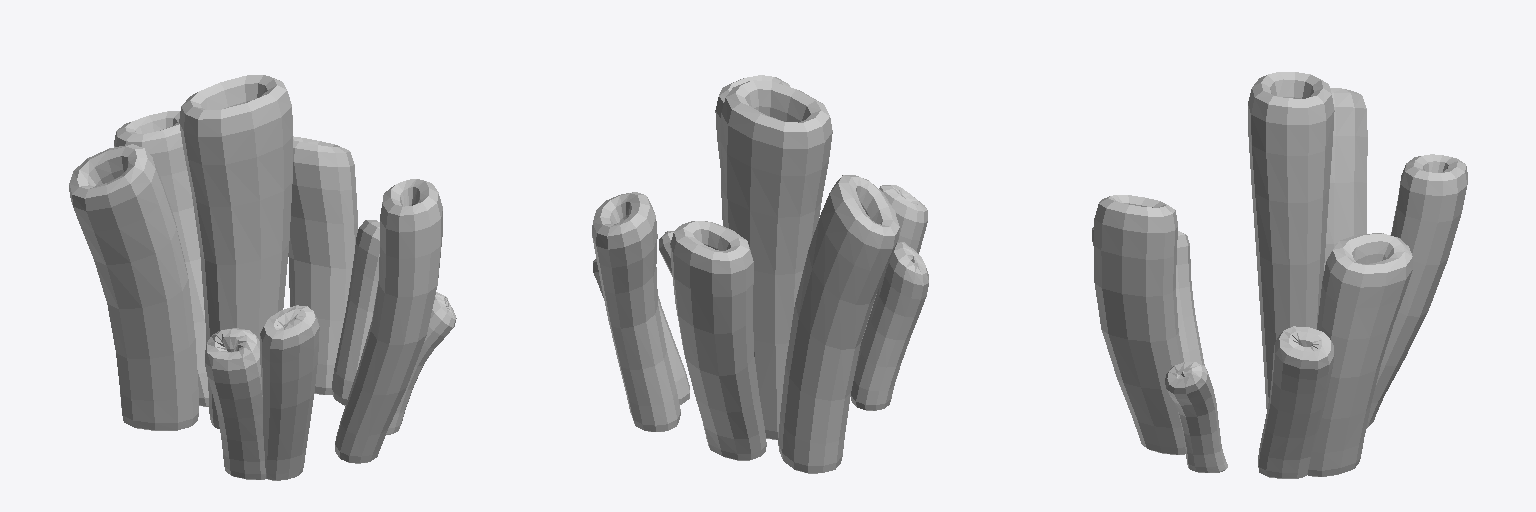
Rendered from Coral_D_02_LOD0.obj.
3 views of the same model, side by side, from view 1: azimuth 30°, elevation 25°; view 2: azimuth 150°, elevation 25°; view 3: azimuth 270°, elevation 25° (orthographic).
Parts seen in each view (by area): view 1: Coral_D_02_LOD0_Cylinder.306; view 2: Coral_D_02_LOD0_Cylinder.306; view 3: Coral_D_02_LOD0_Cylinder.306.
Boxes of the visible parts, x1,y1,x2,y2 form: Coral_D_02_LOD0_Cylinder.306: [69, 75, 456, 480]; Coral_D_02_LOD0_Cylinder.306: [592, 75, 928, 473]; Coral_D_02_LOD0_Cylinder.306: [1092, 72, 1467, 478].
Size of the model in its own units: 4.2 by 4.35 by 4.4.